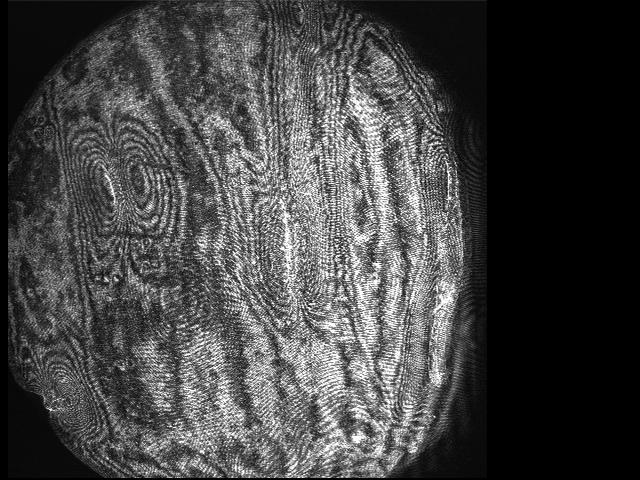plume: (63, 115, 176, 242)
